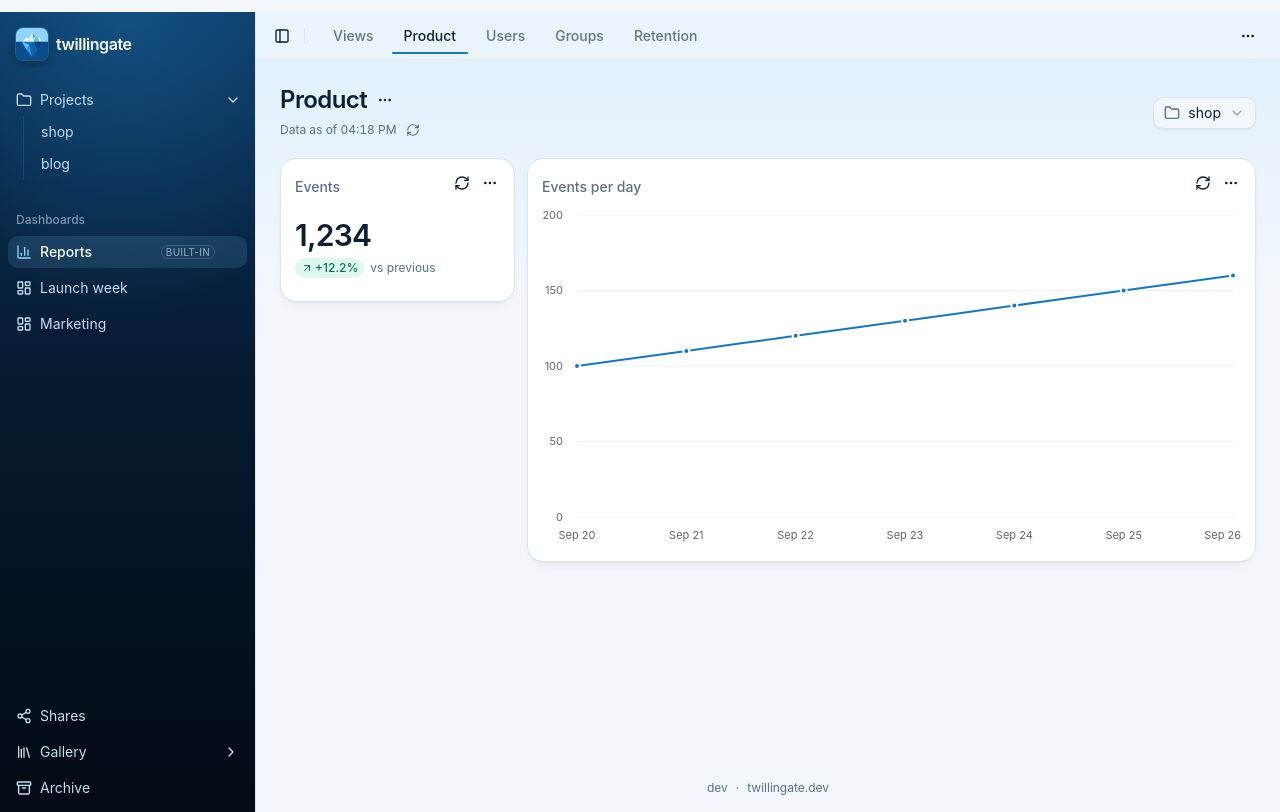
Test case: Dashboard › still offers Share… and Download PNG on a dashboard with a project but no range switcher
Expected: the button with aria-label "Project" is shown, x1=1153 y1=97 x2=1256 y2=129
Click the 1st button named "Widget actions" at (490, 183), box x1=476 y1=169 x2=504 y2=197
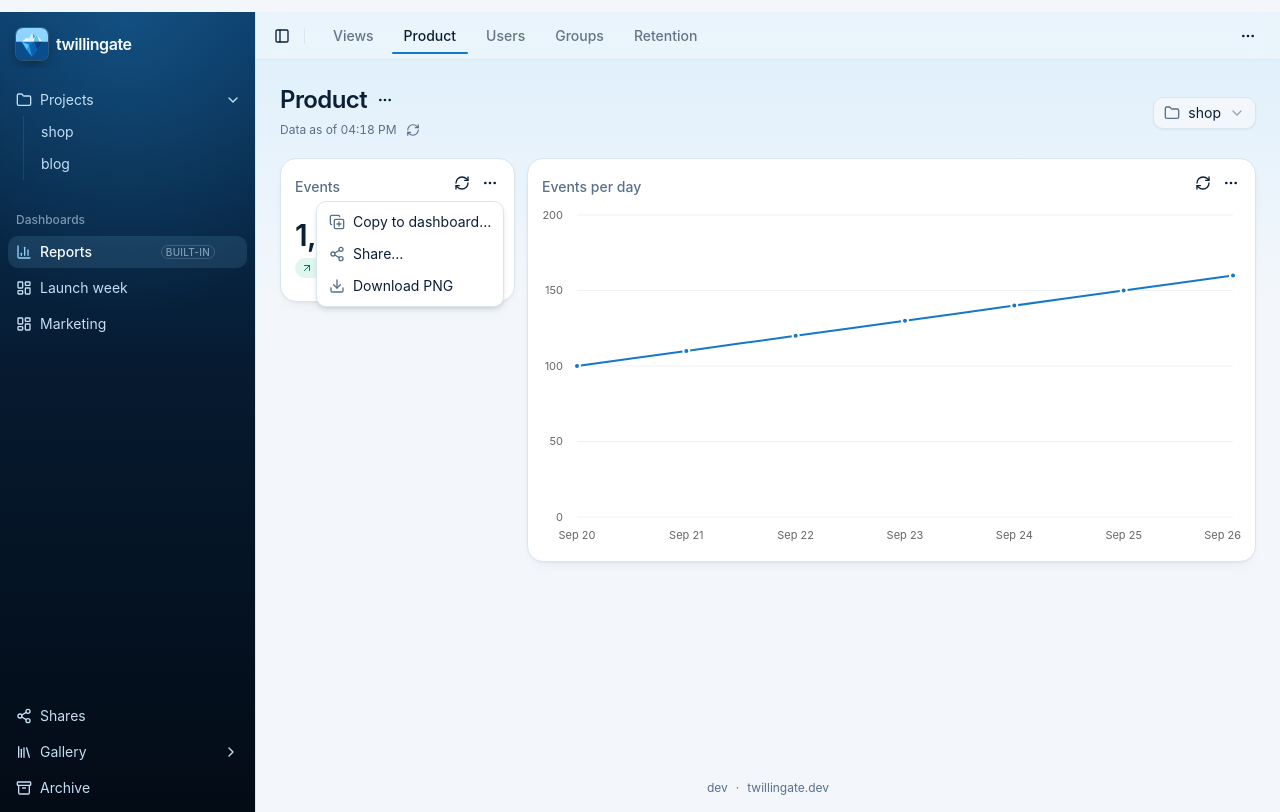
Result: the menu item "Share…" is shown at x1=329 y1=245 x2=403 y2=262
Result: the menu item "Download PNG" is shown at x1=329 y1=277 x2=453 y2=294
